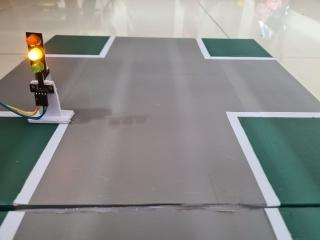yellow: (14, 22, 54, 82)
